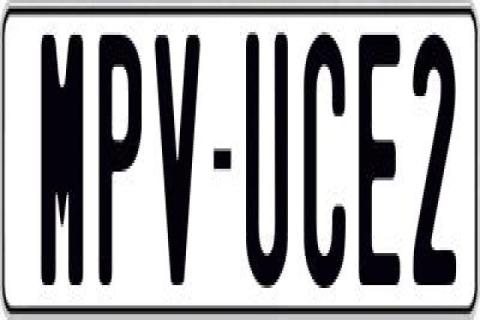0: (414, 29, 458, 282)
C: (302, 32, 348, 300)
E: (356, 27, 398, 280)
M: (39, 29, 82, 282)
P: (98, 26, 140, 282)
U: (243, 32, 290, 302)
V: (154, 26, 206, 276)
